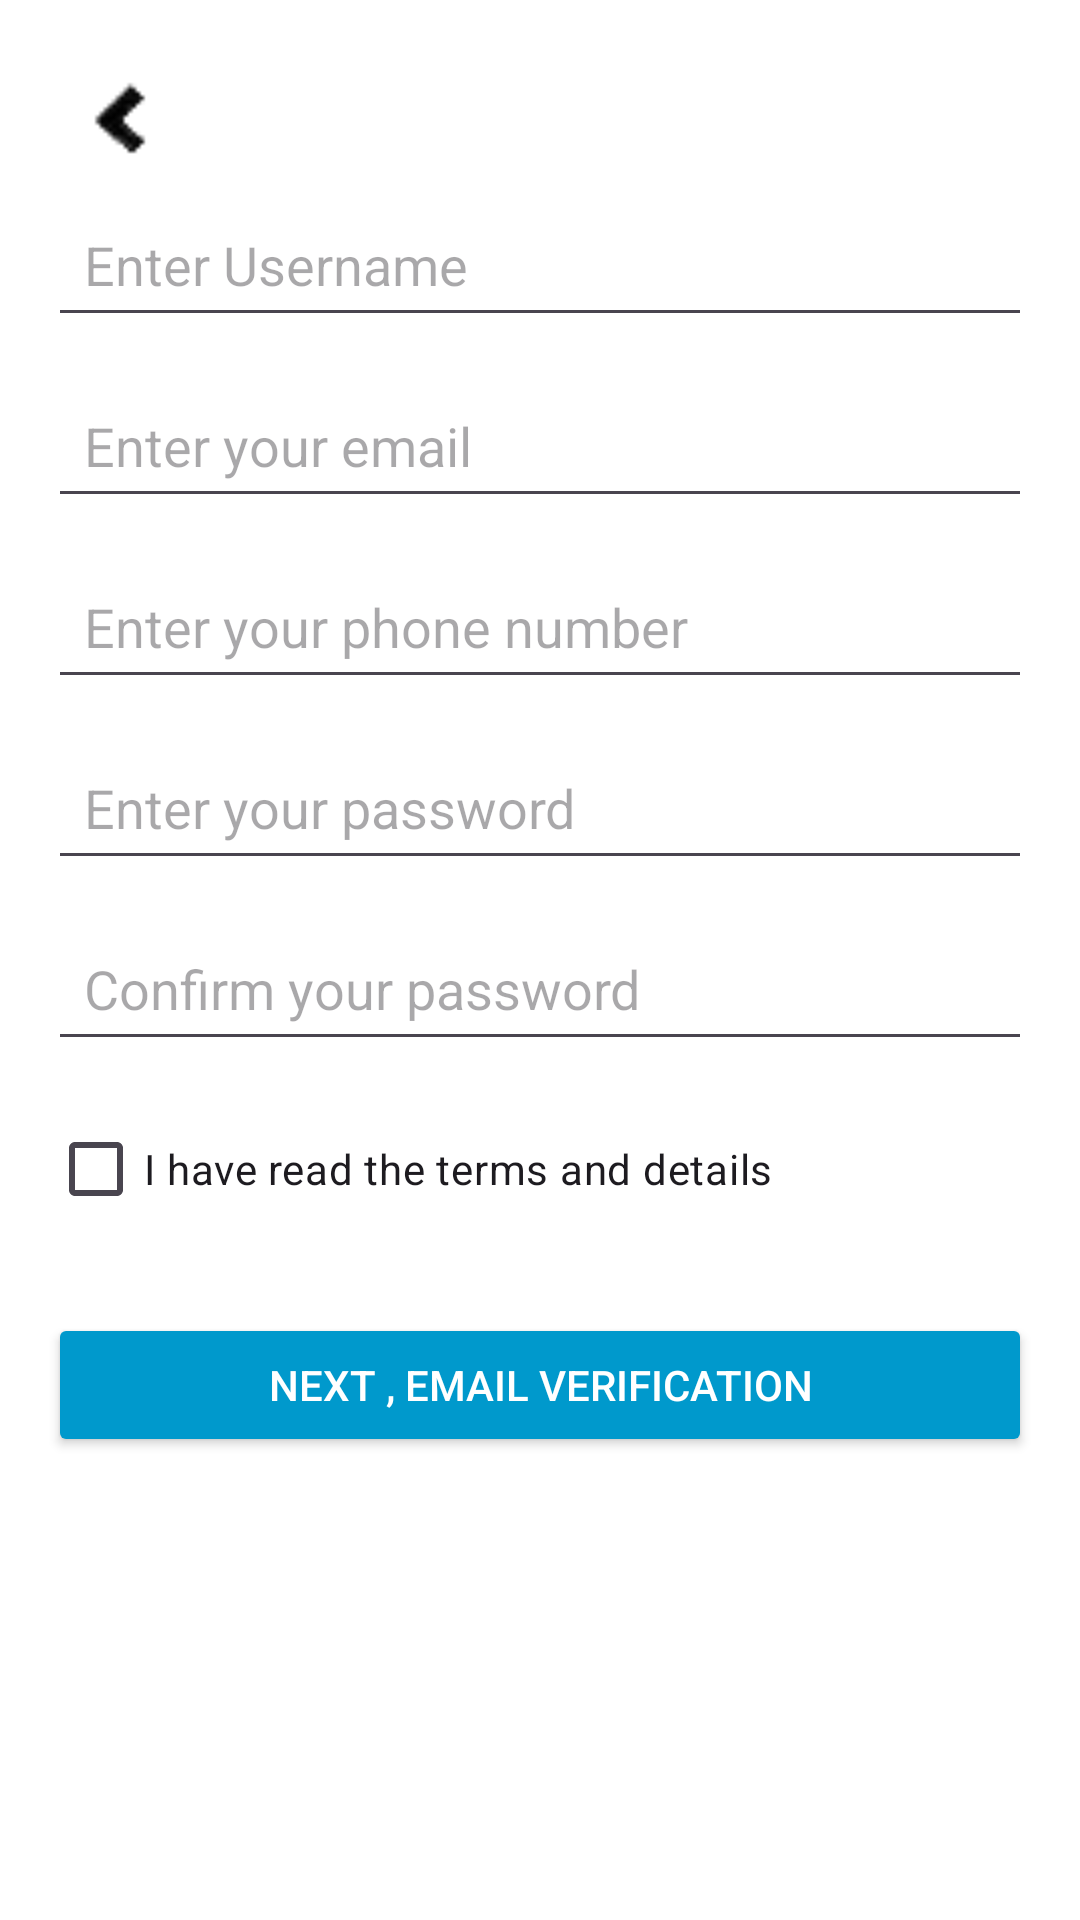

Screen size 1080 × 1920. Icon name, then its box in pixels as Rect(x1, y1, x2, y2):
exit: Rect(95, 83, 146, 154)
